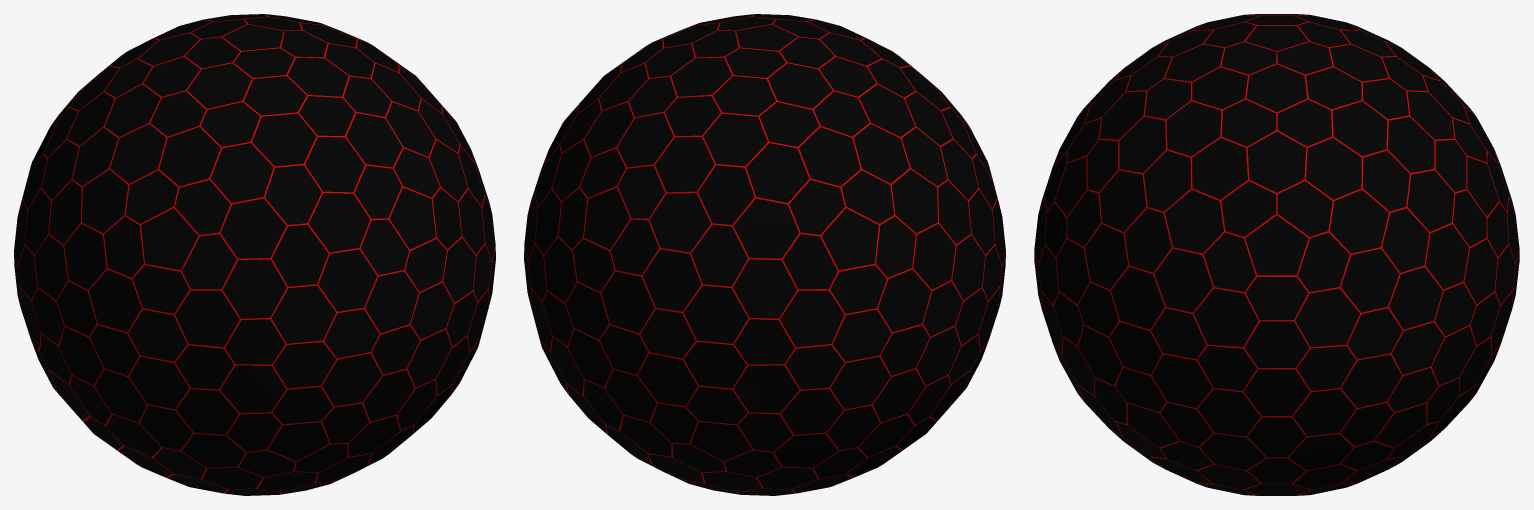
3 renders of one model, left to right at view 1: azimuth 30°, elevation 25°; view 2: azimuth 150°, elevation 25°; view 3: azimuth 270°, elevation 25°, orthographic.
Visible parts, largest first — view 1: Object001; view 2: Object001; view 3: Object001.
Boxes of the visible parts, x1,y1,x2,y2 form: Object001: (14,14,495,495); Object001: (524,14,1005,495); Object001: (1034,14,1519,495).
Size of the model in its own units: 391 by 390 by 393.
